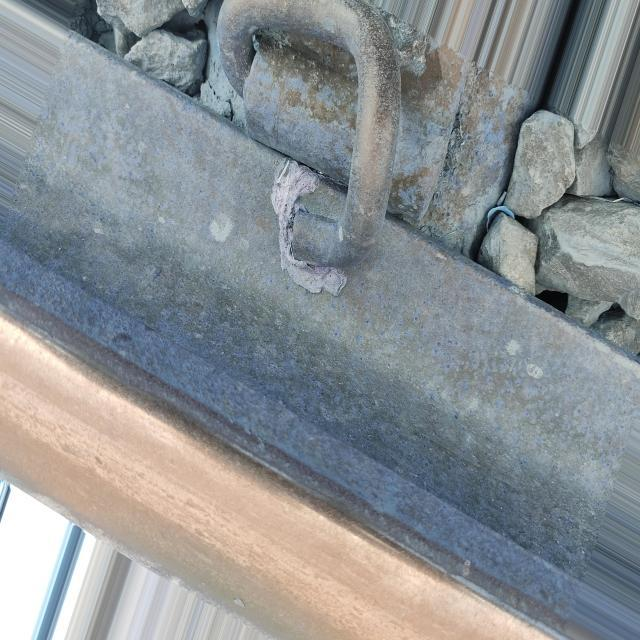Good Fasteners: (217, 0, 473, 268)
